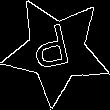P_S: (34, 22, 80, 79)
